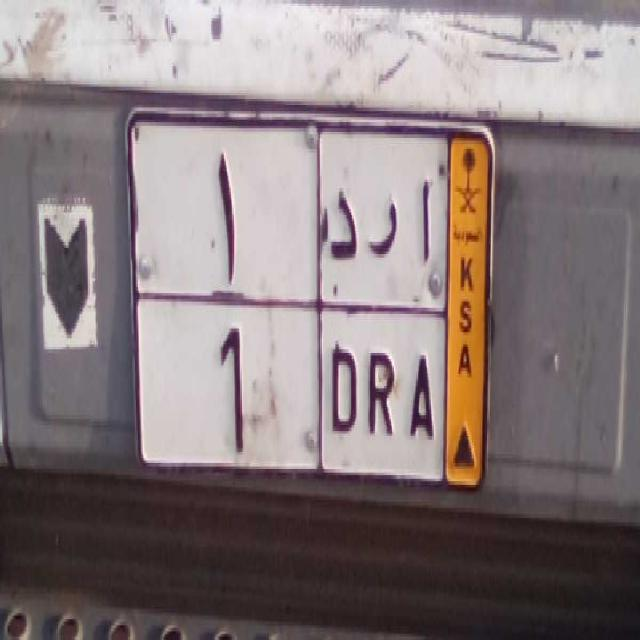license_plate: (134, 289, 450, 482)
